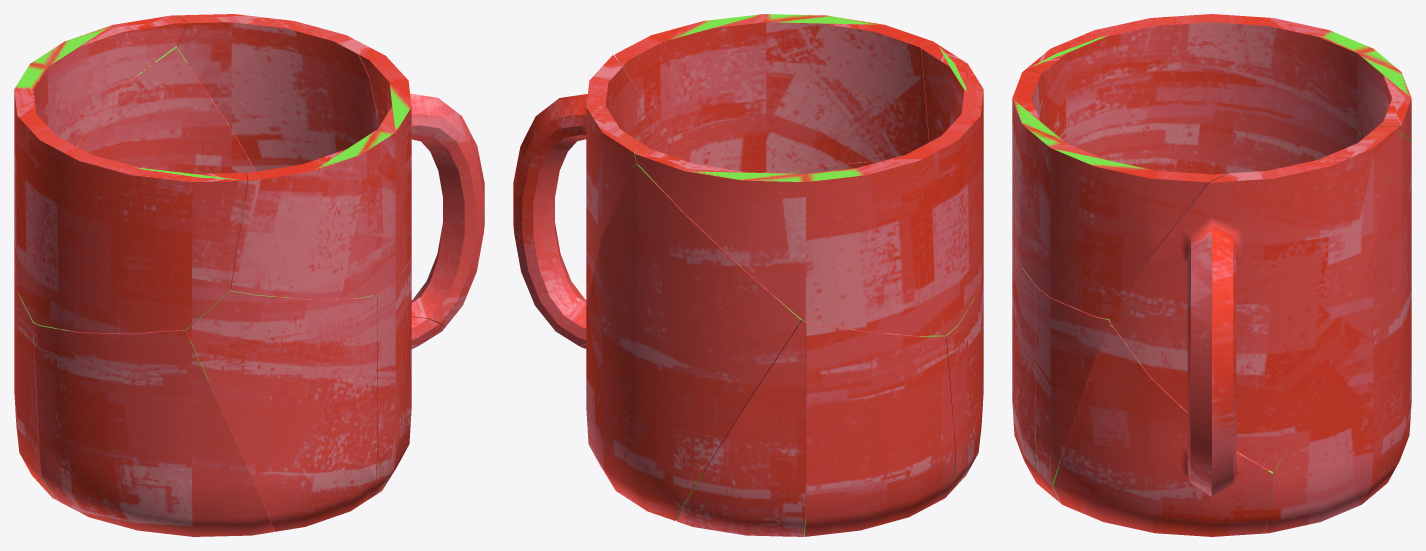
File: RedMug.obj
The picture shows the model from 3 angles, left to right: view 1: azimuth 30°, elevation 25°; view 2: azimuth 150°, elevation 25°; view 3: azimuth 270°, elevation 25°; orthographic projection.
Parts seen in each view (by area): view 1: RedMug_cell.007, RedMug_cell.009, RedMug_cell.003, RedMug_cell.008, RedMug_cell.001, RedMug_cell.006, RedMug_cell, RedMug_cell.002, RedMug_cell.005; view 2: RedMug_cell.007, RedMug_cell.006, RedMug_cell.001, RedMug_cell.002, RedMug_cell.008, RedMug_cell.004, RedMug_cell.009; view 3: RedMug_cell.008, RedMug_cell.007, RedMug_cell.006, RedMug_cell.001, RedMug_cell.005, RedMug_cell, RedMug_cell.003.
Boxes of the visible parts, x1=… form: RedMug_cell.007: x1=14, y1=15, x2=247, y2=333; RedMug_cell.009: x1=33, y1=322, x2=273, y2=536; RedMug_cell.003: x1=185, y1=290, x2=377, y2=531; RedMug_cell.008: x1=176, y1=14, x2=484, y2=327; RedMug_cell.001: x1=230, y1=54, x2=411, y2=299; RedMug_cell.006: x1=77, y1=46, x2=255, y2=173; RedMug_cell: x1=368, y1=257, x2=411, y2=499; RedMug_cell.002: x1=14, y1=249, x2=54, y2=498; RedMug_cell.005: x1=376, y1=302, x2=444, y2=494; RedMug_cell.007: x1=634, y1=44, x2=983, y2=335; RedMug_cell.006: x1=586, y1=164, x2=802, y2=520; RedMug_cell.001: x1=614, y1=14, x2=936, y2=172; RedMug_cell.002: x1=804, y1=321, x2=955, y2=536; RedMug_cell.008: x1=513, y1=55, x2=680, y2=345; RedMug_cell.004: x1=676, y1=320, x2=805, y2=536; RedMug_cell.009: x1=944, y1=251, x2=983, y2=495; RedMug_cell.008: x1=1109, y1=126, x2=1401, y2=496; RedMug_cell.007: x1=1025, y1=14, x2=1411, y2=174; RedMug_cell.006: x1=1263, y1=134, x2=1411, y2=533; RedMug_cell.001: x1=1012, y1=70, x2=1227, y2=319; RedMug_cell.005: x1=1053, y1=325, x2=1272, y2=536; RedMug_cell: x1=1035, y1=286, x2=1111, y2=500; RedMug_cell.003: x1=1012, y1=228, x2=1050, y2=494.
Size of the model in its own units: 1.33 by 1.03 by 1.04.
